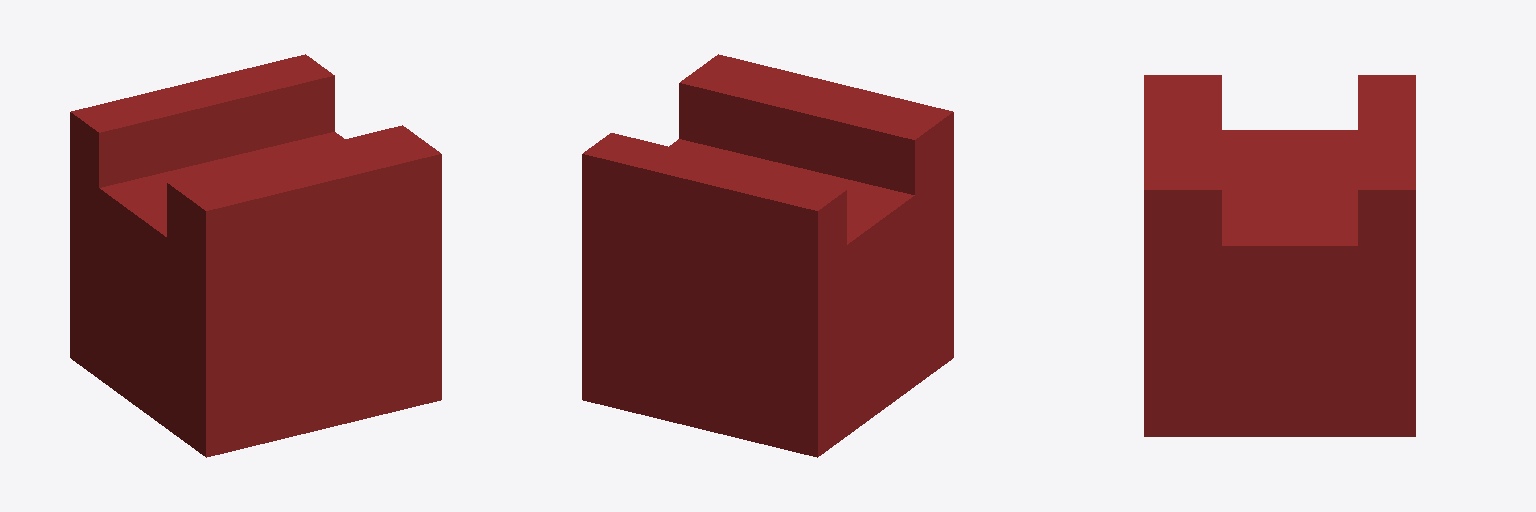
Rendered from CSGCombiner3.obj.
The picture shows the model from 3 angles: view 1: azimuth 30°, elevation 25°; view 2: azimuth 150°, elevation 25°; view 3: azimuth 270°, elevation 25°; orthographic projection.
Parts seen in each view (by area): view 1: surface0, surface1; view 2: surface0, surface1; view 3: surface0, surface1.
Boxes of the visible parts, box(x1,y1,x2,y2) form: surface0: box(70, 54, 441, 457); surface1: box(99, 76, 343, 236); surface0: box(582, 54, 953, 457); surface1: box(669, 83, 914, 244); surface0: box(1144, 75, 1415, 436); surface1: box(1222, 130, 1357, 245).
Bounding box in the file's own units: 2 × 2 × 2.